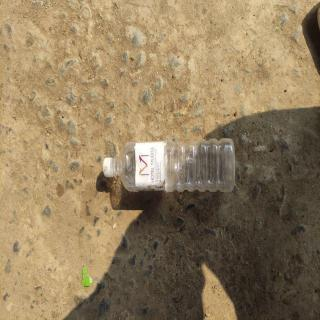Plastic-bottle: (100, 135, 239, 200)
